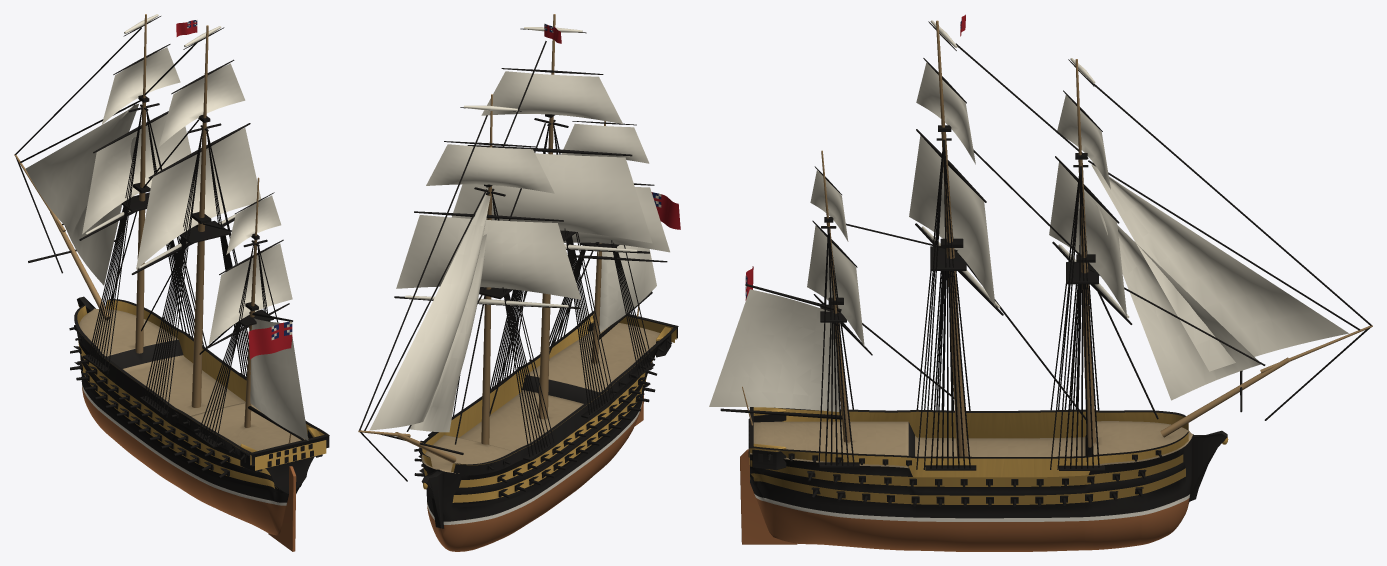
File: british-74.glb
The picture shows the model from 3 angles, left to right: view 1: azimuth 30°, elevation 25°; view 2: azimuth 150°, elevation 25°; view 3: azimuth 270°, elevation 25°; orthographic projection. The views are drawn at different scales.
Parts seen in each view (by area): view 1: british-74; view 2: british-74; view 3: british-74.
Part boxes in pixels (x1=…): british-74: x1=14, y1=14, x2=329, y2=551; british-74: x1=358, y1=14, x2=680, y2=551; british-74: x1=709, y1=14, x2=1372, y2=551.
Size of the model in its own units: 25.7 by 68.96 by 79.31.
